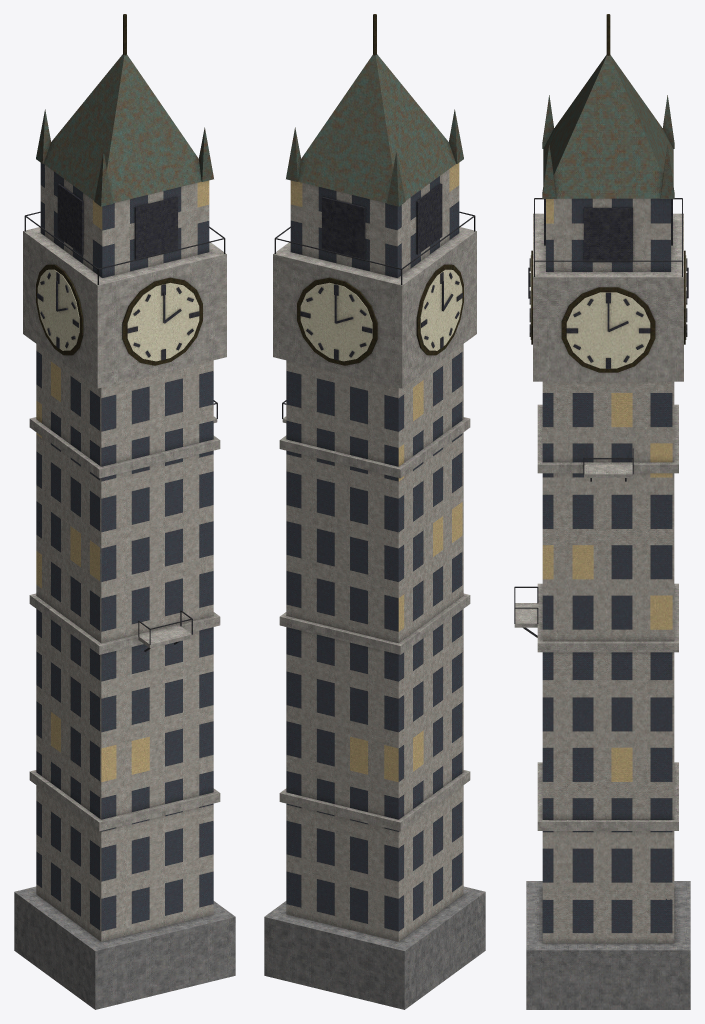
Rendered from SM_ClockTower.fbx.
The picture shows the model from 3 angles, left to right: view 1: azimuth 30°, elevation 25°; view 2: azimuth 150°, elevation 25°; view 3: azimuth 270°, elevation 25°; orthographic projection.
Visible parts, largest first — view 1: SM_ClockTower; view 2: SM_ClockTower; view 3: SM_ClockTower.
Part boxes in pixels (x1,y1,x2,y2): SM_ClockTower: (14, 14, 235, 1009); SM_ClockTower: (264, 14, 485, 1009); SM_ClockTower: (514, 14, 690, 1009).
Size of what is drawn, in the model's own units: 1073 by 6450 by 1073.
Materials: 2 (2 with a texture image).
